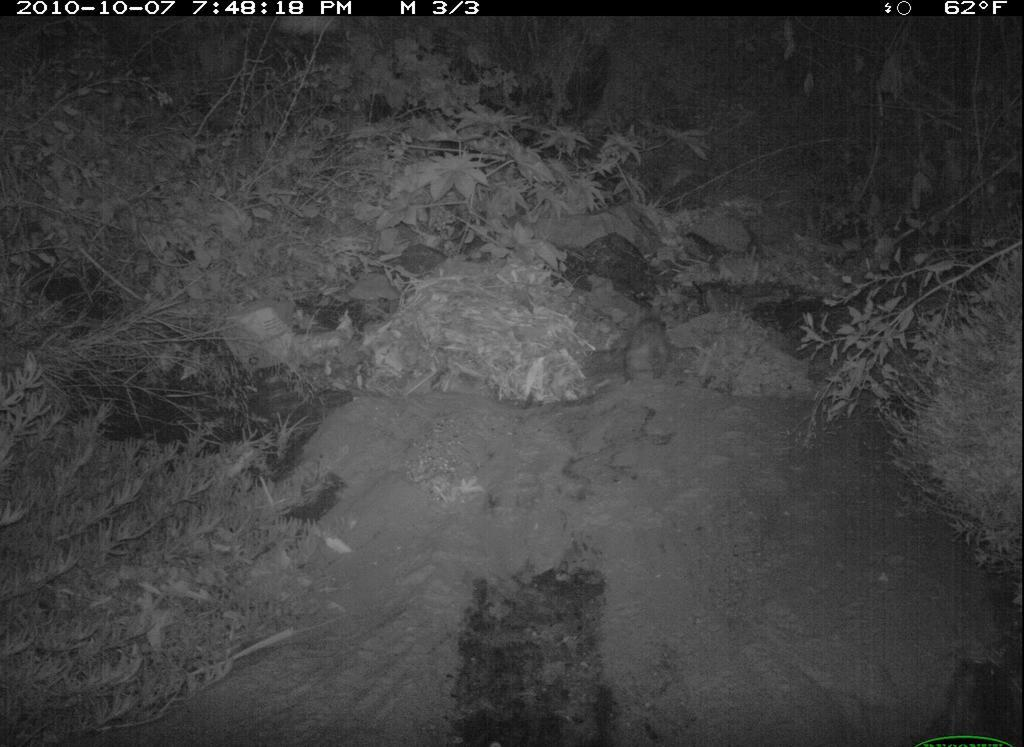opossum: (588, 308, 699, 404)
